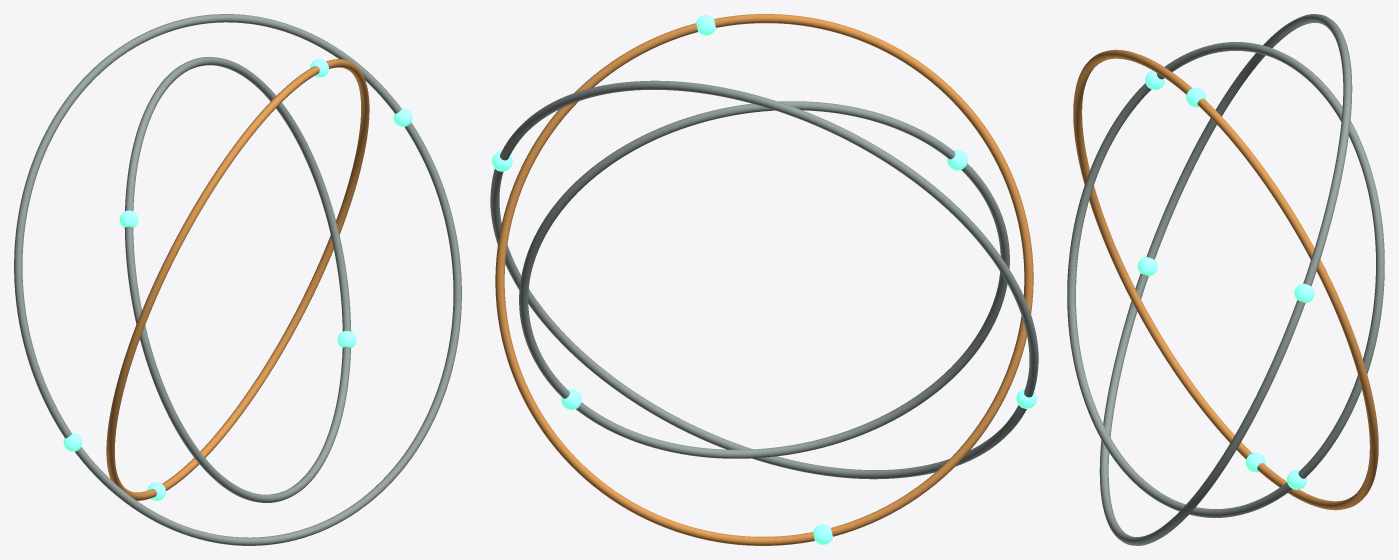
Rendered from studio-orbit.glb.
3 renders of one model, left to right at view 1: azimuth 30°, elevation 25°; view 2: azimuth 150°, elevation 25°; view 3: azimuth 270°, elevation 25°, orthographic. The views are drawn at different scales.
Parts seen in each view (by area): view 1: Orbit_band_0, Orbit_band_2, Orbit_band_1; view 2: Orbit_band_1, Orbit_band_0, Orbit_band_2; view 3: Orbit_band_2, Orbit_band_0, Orbit_band_1.
Boxes of the visible parts, x1,y1,x2,y2 form: Orbit_band_0: [14, 14, 461, 545]; Orbit_band_2: [124, 57, 351, 502]; Orbit_band_1: [106, 59, 369, 500]; Orbit_band_1: [495, 14, 1033, 545]; Orbit_band_0: [490, 80, 1038, 479]; Orbit_band_2: [519, 101, 1009, 458]; Orbit_band_2: [1067, 42, 1384, 517]; Orbit_band_0: [1099, 14, 1352, 545]; Orbit_band_1: [1073, 49, 1378, 510].
Bounding box in the file's own units: 4.75 × 4.33 × 2.69.
